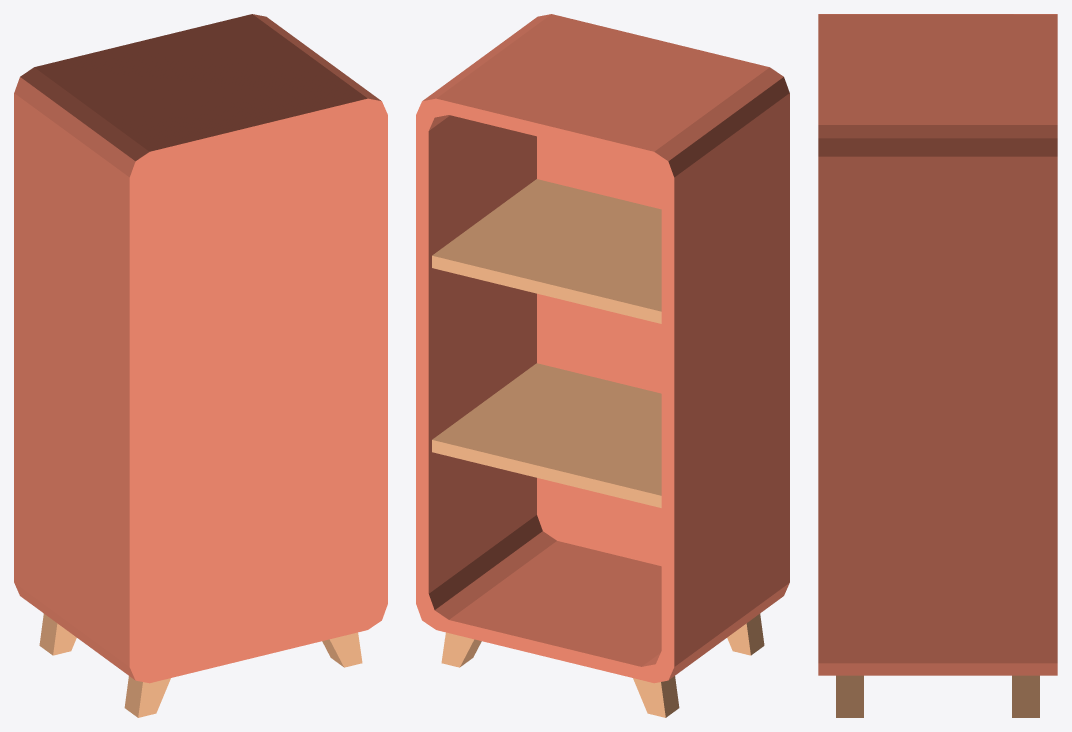
File: Cabinet 3.fbx
The picture shows the model from 3 angles, left to right: view 1: azimuth 30°, elevation 25°; view 2: azimuth 150°, elevation 25°; view 3: azimuth 270°, elevation 25°; orthographic projection. The views are drawn at different scales.
Parts seen in each view (by area): view 1: Node 0; view 2: Node 0; view 3: Node 0.
Boxes of the visible parts, x1,y1,x2,y2 form: Node 0: [14, 14, 387, 717]; Node 0: [416, 14, 789, 717]; Node 0: [818, 14, 1057, 717].
Bounding box in the file's own units: 0.6746 × 1.84 × 0.8698.
